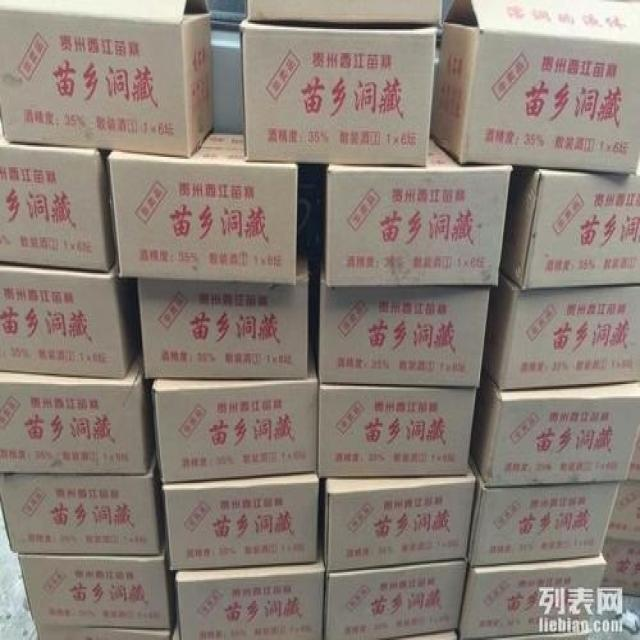box: (430, 0, 640, 176), (239, 17, 436, 167), (324, 135, 512, 288), (109, 133, 297, 285), (152, 343, 317, 483), (319, 256, 490, 387), (137, 254, 308, 381), (468, 365, 640, 486), (481, 268, 640, 389), (0, 352, 155, 474), (0, 447, 165, 556), (0, 256, 140, 379), (500, 166, 640, 288), (324, 464, 476, 573), (161, 471, 320, 573), (0, 135, 116, 273), (18, 529, 175, 630), (317, 386, 476, 476), (467, 480, 620, 565), (458, 555, 607, 640), (323, 558, 468, 640), (175, 561, 325, 640), (246, 0, 443, 24), (600, 539, 640, 597), (605, 481, 640, 543), (36, 626, 172, 640), (461, 628, 589, 640), (627, 428, 640, 485)
